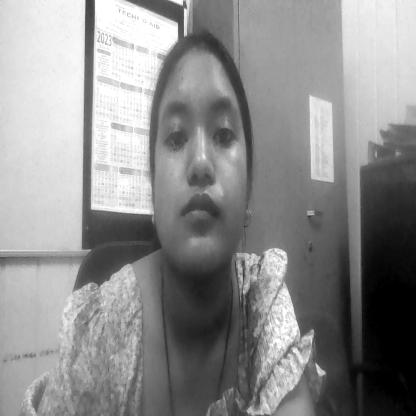Normal: (161, 62, 249, 252)
